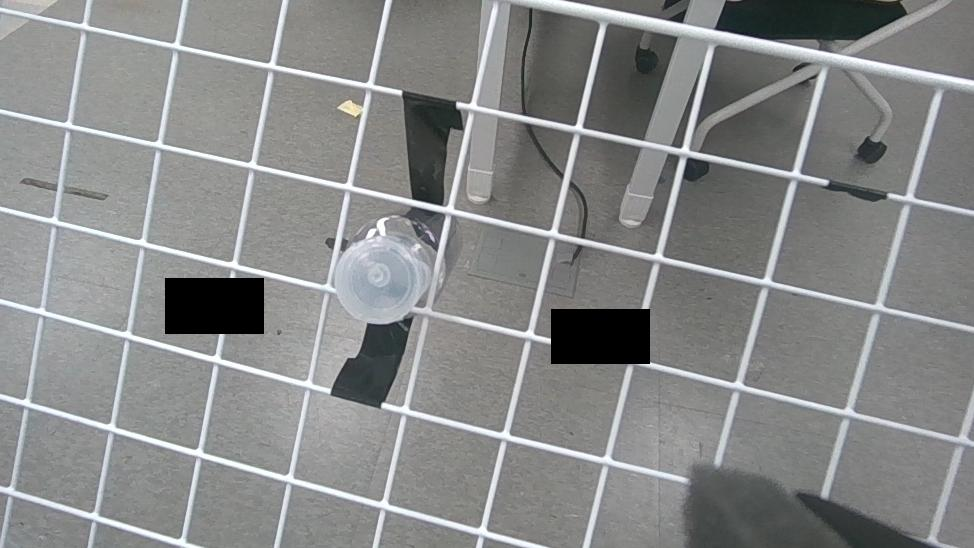Cap: (333, 234, 427, 329)
